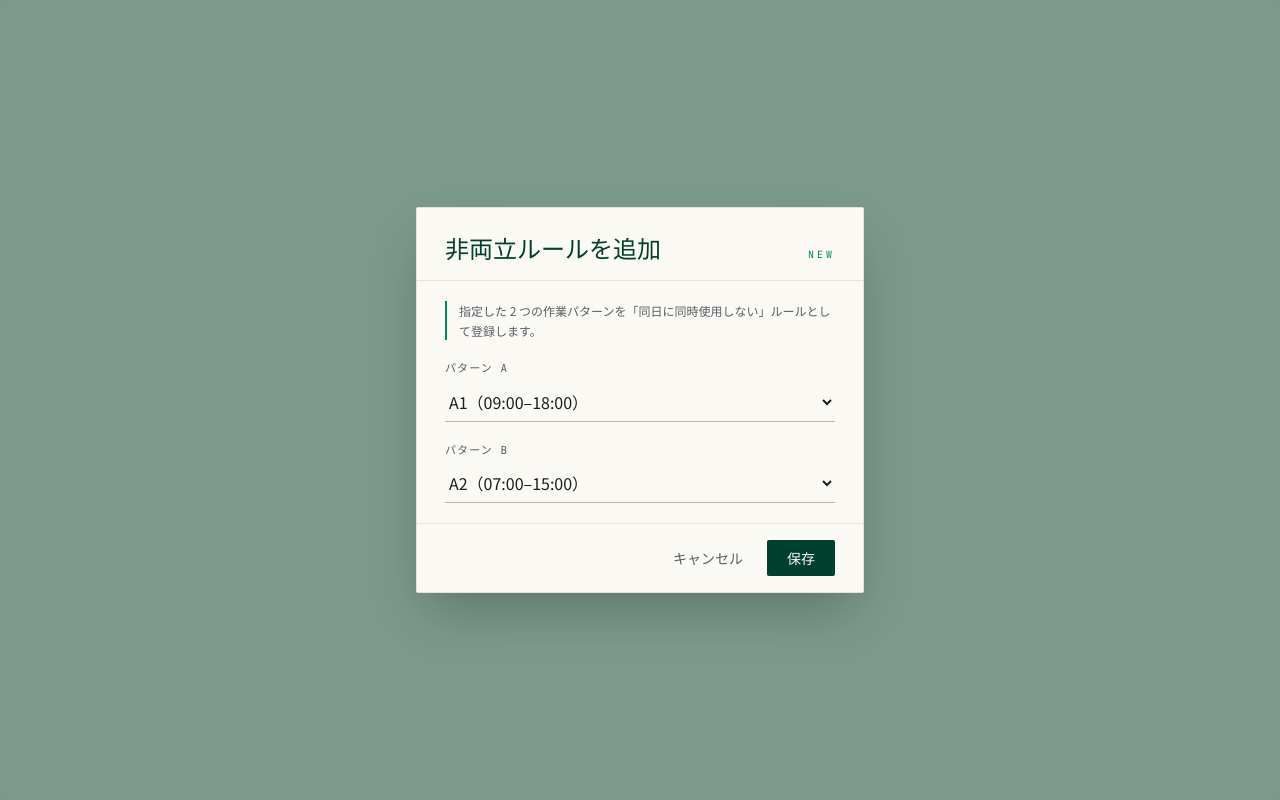
Test case: IncompatibilityFormModal (create mode) › rejects submit when A and B are equal
Select "A1（09:00–18:00）" in the dropdown labelled "パターン A" at (640, 402), box x1=445 y1=382 x2=835 y2=422
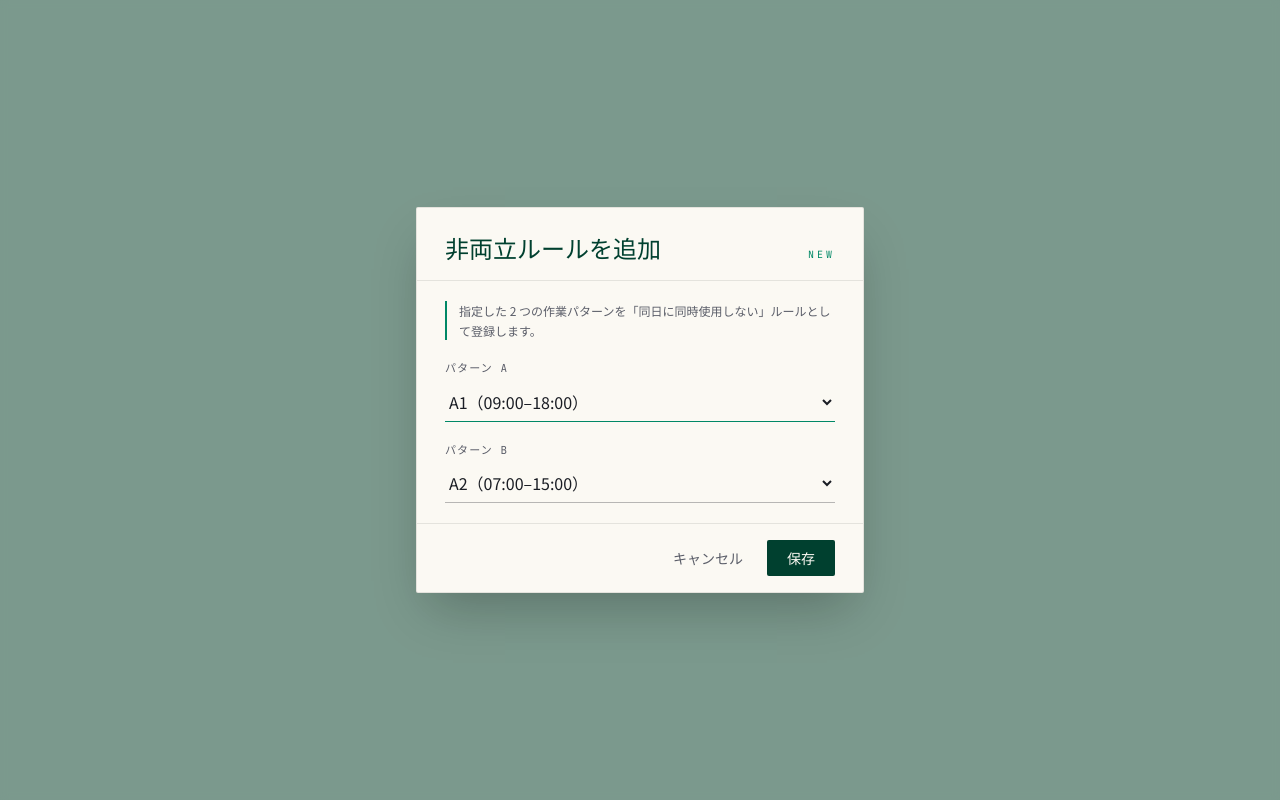
Select "A1（09:00–18:00）" in the dropdown labelled "パターン B" at (640, 484), box x1=445 y1=464 x2=835 y2=503
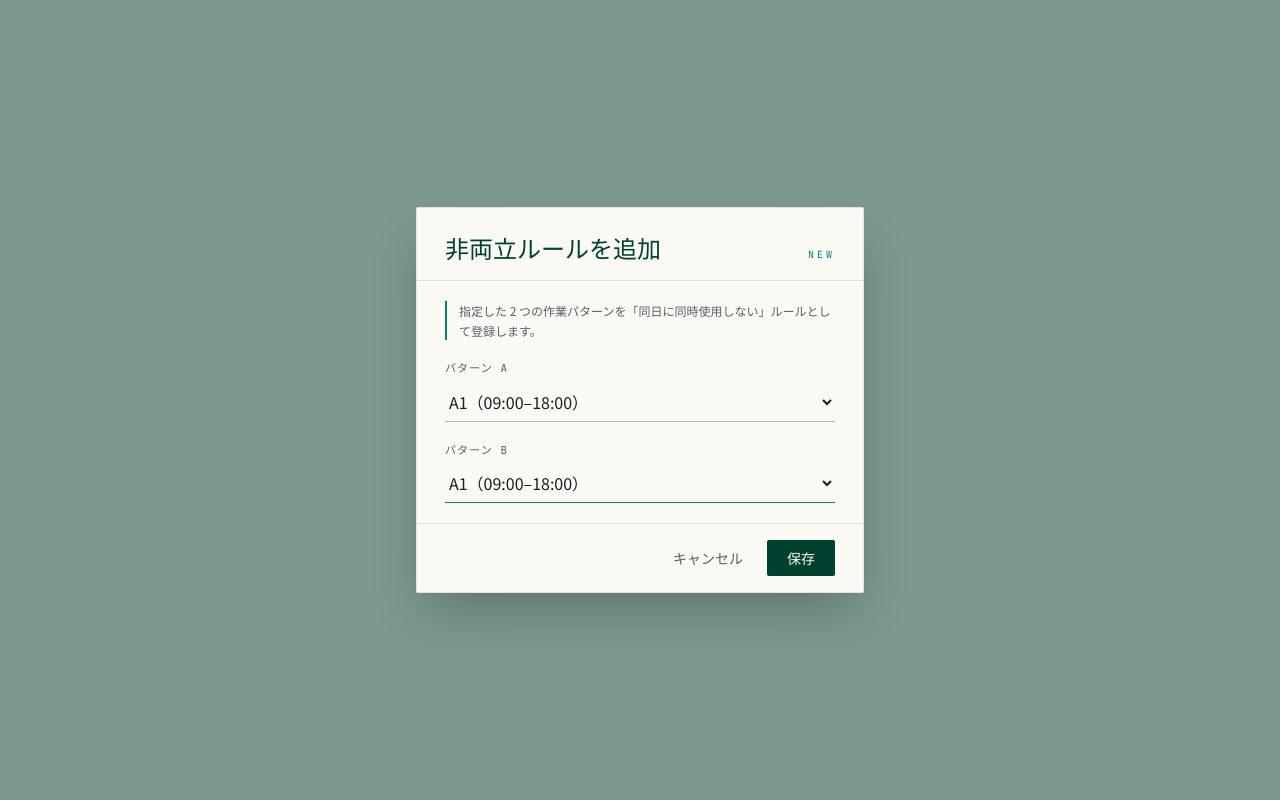
Click the button "保存".
click(801, 558)  # box x1=767 y1=540 x2=835 y2=576
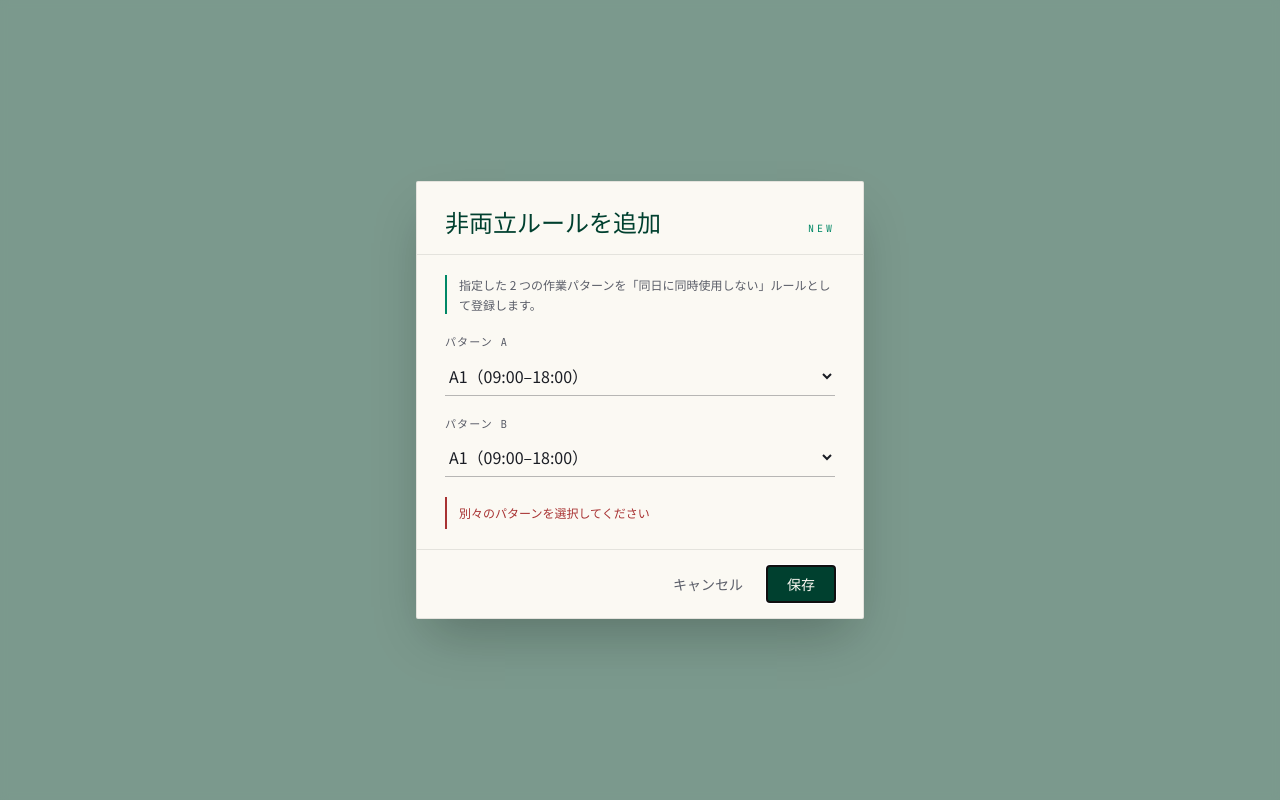
Check: the text "別々のパターンを選択してください" is shown, box x1=445 y1=497 x2=835 y2=529
